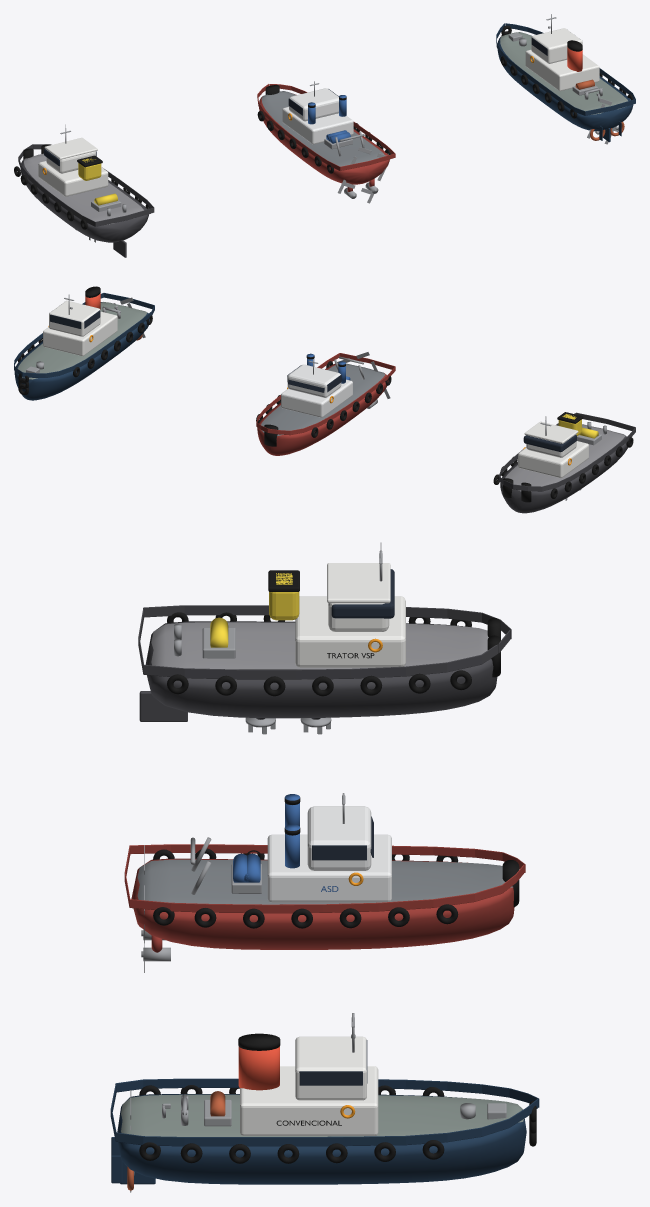
The model's file is rebocadores_frota.glb.
3 views of the same model, one above another, from view 1: azimuth 30°, elevation 25°; view 2: azimuth 150°, elevation 25°; view 3: azimuth 270°, elevation 25° (orthographic). The views are drawn at different scales.
Visible parts, largest first — view 1: rebocadores_frota; view 2: rebocadores_frota; view 3: rebocadores_frota.
Part boxes in pixels (<box>): rebocadores_frota: <box>14,14,635,257</box>; rebocadores_frota: <box>14,286,635,513</box>; rebocadores_frota: <box>110,542,539,1192</box>.
Bounding box in the file's own units: 91.52 × 15.28 × 31.
